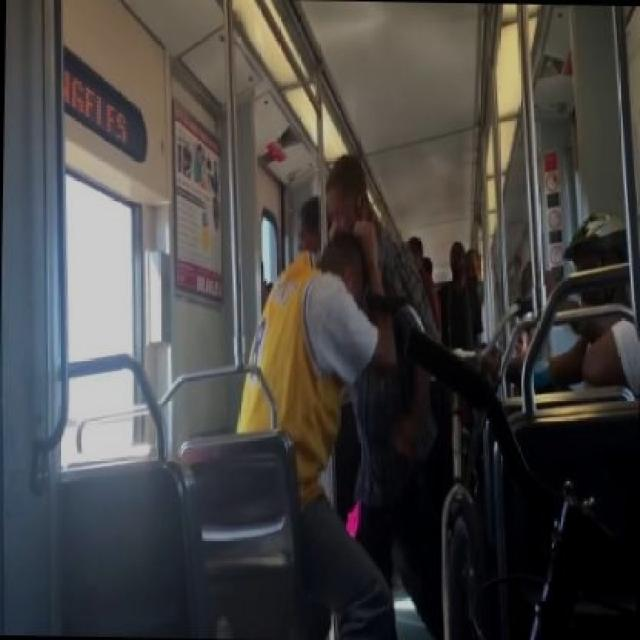fight: (227, 151, 468, 640)
